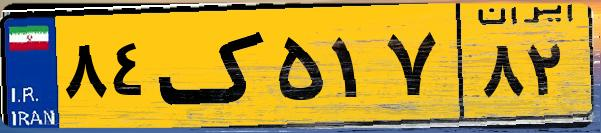1: (330, 28, 385, 110)
2: (525, 38, 570, 115)
4: (110, 28, 158, 98)
5: (270, 28, 330, 110)
7: (385, 28, 445, 110)
8: (57, 26, 110, 100), (475, 38, 525, 113)
ک: (158, 12, 270, 120)
